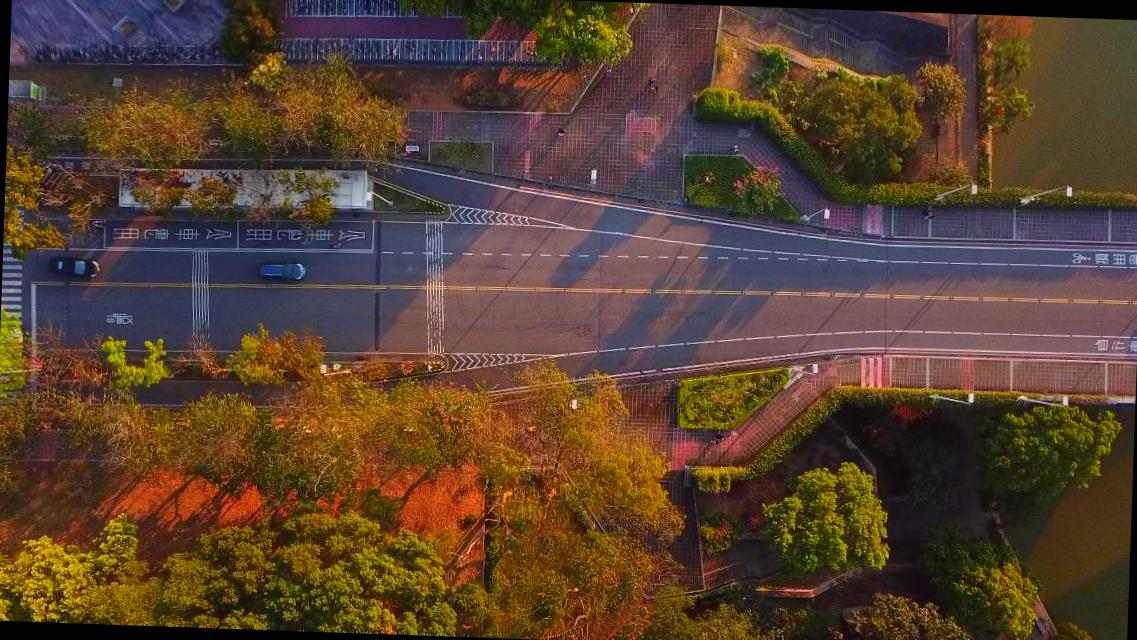vehicle: (48, 256, 100, 278), (259, 260, 305, 280)
